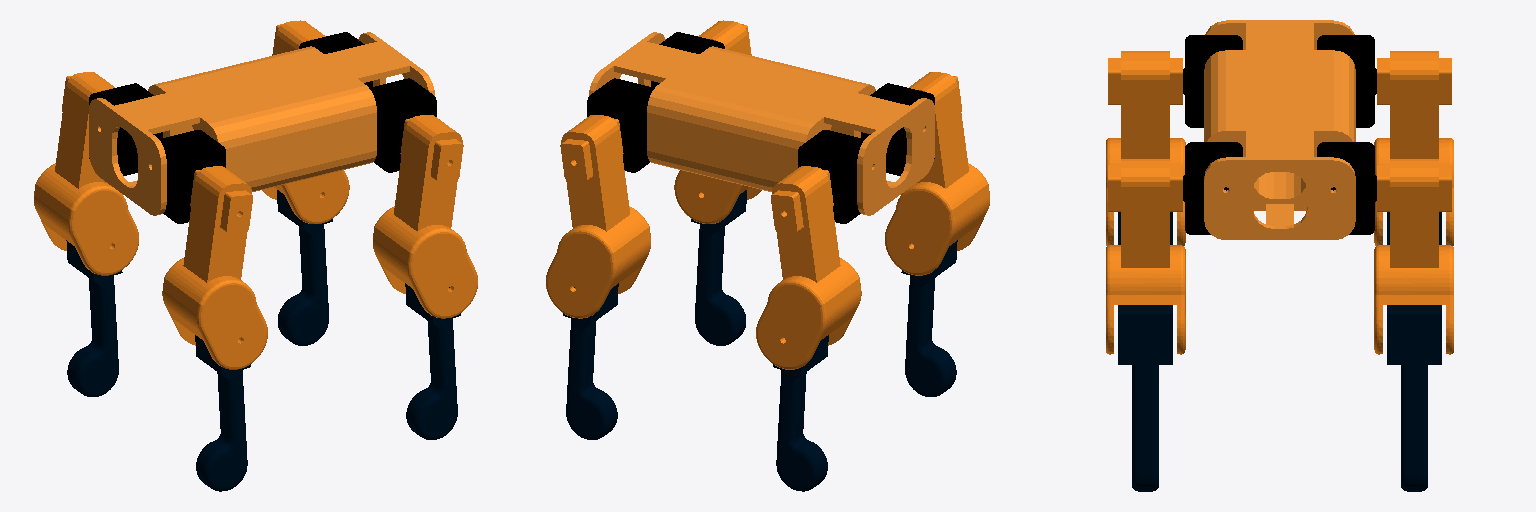
robot.urdf — dogai:
<?xml version="1.0" encoding="utf-8"?>
<!-- This URDF was automatically created by SolidWorks to URDF Exporter! Originally created by [author] ([email redacted]) 
     Commit Version: 1.6.0-1-g15f4949  Build Version: 1.6.7594.29634
     For more information, please see http://wiki.ros.org/sw_urdf_exporter -->
<robot
  name="dogai">
  <link
    name="body">
    <inertial>
      <origin
        xyz="-0.12 3.2055E-18 0.00045303"
        rpy="0 0 0" />
      <mass
        value="0.81191" />
      <inertia
        ixx="0.0012796"
        ixy="-1.8752E-19"
        ixz="1.8007E-19"
        iyy="0.0024911"
        iyz="-6.7374E-20"
        izz="0.0031155" />
    </inertial>
    <visual>
      <origin
        xyz="0 0 0"
        rpy="0 0 0" />
      <geometry>
        <mesh
          filename="package://dogai/meshes/body.STL" />
      </geometry>
      <material
        name="">
        <color
          rgba="1 0.61176 0.21961 1" />
      </material>
    </visual>
    <collision>
      <origin
        xyz="0 0 0"
        rpy="0 0 0" />
      <geometry>
        <mesh
          filename="package://dogai/meshes/body.STL" />
      </geometry>
    </collision>
  </link>
  <link
    name="shoulder_fr">
    <inertial>
      <origin
        xyz="0.0115975106554325 -0.00913432556897403 3.46944695195361E-18"
        rpy="0 0 0" />
      <mass
        value="0.106289004701676" />
      <inertia
        ixx="3.25774990855459E-05"
        ixy="-9.46709865303844E-08"
        ixz="2.54666498027331E-22"
        iyy="4.53186517428609E-05"
        iyz="2.46297179272485E-21"
        izz="4.32581209996743E-05" />
    </inertial>
    <visual>
      <origin
        xyz="0 0 0"
        rpy="0 0 0" />
      <geometry>
        <mesh
          filename="package://dogai/meshes/shoulder_fr.STL" />
      </geometry>
      <material
        name="">
        <color
          rgba="0 0 0 1" />
      </material>
    </visual>
    <collision>
      <origin
        xyz="0 0 0"
        rpy="0 0 0" />
      <geometry>
        <mesh
          filename="package://dogai/meshes/shoulder_fr.STL" />
      </geometry>
    </collision>
  </link>
  <joint
    name="shoulder_fr_j"
    type="revolute">
    <origin
      xyz="-0.0275 -0.039 0.008"
      rpy="0 1.5708 0" />
    <parent
      link="body" />
    <child
      link="shoulder_fr" />
    <axis
      xyz="0 0 1" />
    <limit
      lower="-0.75"
      upper="1"
      effort="1"
      velocity="4" />
  </joint>
  <link
    name="leg_fr">
    <inertial>
      <origin
        xyz="0.0487781480399099 -0.00604686128392776 -4.64900756780295E-11"
        rpy="0 0 0" />
      <mass
        value="0.193999611092193" />
      <inertia
        ixx="8.48586935457572E-05"
        ixy="2.19246058611957E-05"
        ixz="-5.96478438885935E-12"
        iyy="0.000321240412259336"
        iyz="-2.85920133701601E-11"
        izz="0.000299935255132482" />
    </inertial>
    <visual>
      <origin
        xyz="0 0 0"
        rpy="0 0 0" />
      <geometry>
        <mesh
          filename="package://dogai/meshes/leg_fr.STL" />
      </geometry>
      <material
        name="">
        <color
          rgba="1 0.576470588235294 0.152941176470588 1" />
      </material>
    </visual>
    <collision>
      <origin
        xyz="0 0 0"
        rpy="0 0 0" />
      <geometry>
        <mesh
          filename="package://dogai/meshes/leg_fr.STL" />
      </geometry>
    </collision>
  </link>
  <joint
    name="leg_fr_j"
    type="revolute">
    <origin
      xyz="0.0115 -0.0585 0"
      rpy="1.5708 0 0" />
    <parent
      link="shoulder_fr" />
    <child
      link="leg_fr" />
    <axis
      xyz="0 0 -1" />
    <limit
      lower="-1.5"
      upper="1.57"
      effort="1"
      velocity="4" />
  </joint>
  <link
    name="foreleg_fr">
    <inertial>
      <origin
        xyz="0.052106825436364 0.00242636941342475 -1.4779647575236E-08"
        rpy="0 0 0" />
      <mass
        value="0.0838297623786511" />
      <inertia
        ixx="1.2288603982173E-05"
        ixy="-2.54469730030703E-06"
        ixz="1.34161791073589E-11"
        iyy="0.000188049108154985"
        iyz="-9.88336405367172E-12"
        izz="0.000186982160883614" />
    </inertial>
    <visual>
      <origin
        xyz="0 0 0"
        rpy="0 0 0" />
      <geometry>
        <mesh
          filename="package://dogai/meshes/foreleg_fr.STL" />
      </geometry>
      <material
        name="">
        <color
          rgba="0 0.0901960784313725 0.164705882352941 1" />
      </material>
    </visual>
    <collision>
      <origin
        xyz="0 0 0"
        rpy="0 0 0" />
      <geometry>
        <mesh
          filename="package://dogai/meshes/foreleg_fr.STL" />
      </geometry>
    </collision>
  </link>
  <joint
    name="foreleg_fr_j"
    type="revolute">
    <origin
      xyz="0.10508 0 0"
      rpy="0 0 0" />
    <parent
      link="leg_fr" />
    <child
      link="foreleg_fr" />
    <axis
      xyz="0 0 -1" />
    <limit
      lower="-2"
      upper="0.5"
      effort="1"
      velocity="4" />
  </joint>
  <link
    name="shoulder_fl">
    <inertial>
      <origin
        xyz="0.0115975106554325 0.00913432556897403 0"
        rpy="0 0 0" />
      <mass
        value="0.106289004701676" />
      <inertia
        ixx="3.25774990855459E-05"
        ixy="9.46709865303842E-08"
        ixz="6.96249139264393E-22"
        iyy="4.5318651742861E-05"
        iyz="1.70887851159399E-21"
        izz="4.32581209996743E-05" />
    </inertial>
    <visual>
      <origin
        xyz="0 0 0"
        rpy="0 0 0" />
      <geometry>
        <mesh
          filename="package://dogai/meshes/shoulder_fl.STL" />
      </geometry>
      <material
        name="">
        <color
          rgba="0 0 0 1" />
      </material>
    </visual>
    <collision>
      <origin
        xyz="0 0 0"
        rpy="0 0 0" />
      <geometry>
        <mesh
          filename="package://dogai/meshes/shoulder_fl.STL" />
      </geometry>
    </collision>
  </link>
  <joint
    name="shoulder_fl_j"
    type="revolute">
    <origin
      xyz="-0.0275 0.039 0.008"
      rpy="0 1.5708 0" />
    <parent
      link="body" />
    <child
      link="shoulder_fl" />
    <axis
      xyz="0 0 -1" />
    <limit
      lower="-0.75"
      upper="1"
      effort="1"
      velocity="4" />
  </joint>
  <link
    name="leg_fl">
    <inertial>
      <origin
        xyz="0.0487781480399099 -0.00604686128392776 -4.64900756780295E-11"
        rpy="0 0 0" />
      <mass
        value="0.193999611092193" />
      <inertia
        ixx="8.48586935457572E-05"
        ixy="2.19246058611957E-05"
        ixz="-5.96478440380382E-12"
        iyy="0.000321240412259336"
        iyz="-2.8592013365393E-11"
        izz="0.000299935255132482" />
    </inertial>
    <visual>
      <origin
        xyz="0 0 0"
        rpy="0 0 0" />
      <geometry>
        <mesh
          filename="package://dogai/meshes/leg_fl.STL" />
      </geometry>
      <material
        name="">
        <color
          rgba="1 0.576470588235294 0.152941176470588 1" />
      </material>
    </visual>
    <collision>
      <origin
        xyz="0 0 0"
        rpy="0 0 0" />
      <geometry>
        <mesh
          filename="package://dogai/meshes/leg_fl.STL" />
      </geometry>
    </collision>
  </link>
  <joint
    name="leg_fl_j"
    type="revolute">
    <origin
      xyz="0.0115 0.0585 0"
      rpy="1.5708 0 0" />
    <parent
      link="shoulder_fl" />
    <child
      link="leg_fl" />
    <axis
      xyz="0 0 -1" />
    <limit
      lower="-1.5"
      upper="1.57"
      effort="1"
      velocity="4" />
  </joint>
  <link
    name="foreleg_fl">
    <inertial>
      <origin
        xyz="0.052106825436364 0.00242636941342481 -1.47796475891138E-08"
        rpy="0 0 0" />
      <mass
        value="0.0838297623786512" />
      <inertia
        ixx="1.2288603982173E-05"
        ixy="-2.54469730030704E-06"
        ixz="1.34161791055163E-11"
        iyy="0.000188049108154985"
        iyz="-9.88336405478012E-12"
        izz="0.000186982160883614" />
    </inertial>
    <visual>
      <origin
        xyz="0 0 0"
        rpy="0 0 0" />
      <geometry>
        <mesh
          filename="package://dogai/meshes/foreleg_fl.STL" />
      </geometry>
      <material
        name="">
        <color
          rgba="0 0.0901960784313725 0.164705882352941 1" />
      </material>
    </visual>
    <collision>
      <origin
        xyz="0 0 0"
        rpy="0 0 0" />
      <geometry>
        <mesh
          filename="package://dogai/meshes/foreleg_fl.STL" />
      </geometry>
    </collision>
  </link>
  <joint
    name="foreleg_fl_j"
    type="revolute">
    <origin
      xyz="0.10508 0 0"
      rpy="0 0 0" />
    <parent
      link="leg_fl" />
    <child
      link="foreleg_fl" />
    <axis
      xyz="0 0 -1" />
    <limit
      lower="-2"
      upper="0.5"
      effort="1"
      velocity="4" />
  </joint>
  <link
    name="shoulder_br">
    <inertial>
      <origin
        xyz="0.0115975106554326 -0.00913432556897405 0"
        rpy="0 0 0" />
      <mass
        value="0.106289004701676" />
      <inertia
        ixx="3.25774990855459E-05"
        ixy="-9.46709865303851E-08"
        ixz="1.02508255400528E-21"
        iyy="4.5318651742861E-05"
        iyz="8.17447970596714E-22"
        izz="4.32581209996744E-05" />
    </inertial>
    <visual>
      <origin
        xyz="0 0 0"
        rpy="0 0 0" />
      <geometry>
        <mesh
          filename="package://dogai/meshes/shoulder_br.STL" />
      </geometry>
      <material
        name="">
        <color
          rgba="0 0 0 1" />
      </material>
    </visual>
    <collision>
      <origin
        xyz="0 0 0"
        rpy="0 0 0" />
      <geometry>
        <mesh
          filename="package://dogai/meshes/shoulder_br.STL" />
      </geometry>
    </collision>
  </link>
  <joint
    name="shoulder_br_j"
    type="revolute">
    <origin
      xyz="-0.2115 -0.039 0.008"
      rpy="0 1.5708 0" />
    <parent
      link="body" />
    <child
      link="shoulder_br" />
    <axis
      xyz="0 0 1" />
    <limit
      lower="-0.75"
      upper="1"
      effort="1"
      velocity="4" />
  </joint>
  <link
    name="leg_br">
    <inertial>
      <origin
        xyz="0.0487781480399099 -0.00604686128392776 -4.64900618002417E-11"
        rpy="0 0 0" />
      <mass
        value="0.193999611092193" />
      <inertia
        ixx="8.48586935457571E-05"
        ixy="2.19246058611956E-05"
        ixz="-5.96478434356076E-12"
        iyy="0.000321240412259335"
        iyz="-2.85920133693728E-11"
        izz="0.000299935255132482" />
    </inertial>
    <visual>
      <origin
        xyz="0 0 0"
        rpy="0 0 0" />
      <geometry>
        <mesh
          filename="package://dogai/meshes/leg_br.STL" />
      </geometry>
      <material
        name="">
        <color
          rgba="1 0.576470588235294 0.152941176470588 1" />
      </material>
    </visual>
    <collision>
      <origin
        xyz="0 0 0"
        rpy="0 0 0" />
      <geometry>
        <mesh
          filename="package://dogai/meshes/leg_br.STL" />
      </geometry>
    </collision>
  </link>
  <joint
    name="leg_br_j"
    type="revolute">
    <origin
      xyz="0.0115 -0.0585 0"
      rpy="1.5708 0 0" />
    <parent
      link="shoulder_br" />
    <child
      link="leg_br" />
    <axis
      xyz="0 0 -1" />
    <limit
      lower="-1.5"
      upper="1.57"
      effort="1"
      velocity="4" />
  </joint>
  <link
    name="foreleg_br">
    <inertial>
      <origin
        xyz="0.052106825436364 0.00242636941342478 -1.47796475613582E-08"
        rpy="0 0 0" />
      <mass
        value="0.0838297623786512" />
      <inertia
        ixx="1.2288603982173E-05"
        ixy="-2.54469730030703E-06"
        ixz="1.34161790950947E-11"
        iyy="0.000188049108154985"
        iyz="-9.88336405359797E-12"
        izz="0.000186982160883614" />
    </inertial>
    <visual>
      <origin
        xyz="0 0 0"
        rpy="0 0 0" />
      <geometry>
        <mesh
          filename="package://dogai/meshes/foreleg_br.STL" />
      </geometry>
      <material
        name="">
        <color
          rgba="0 0.0901960784313725 0.164705882352941 1" />
      </material>
    </visual>
    <collision>
      <origin
        xyz="0 0 0"
        rpy="0 0 0" />
      <geometry>
        <mesh
          filename="package://dogai/meshes/foreleg_br.STL" />
      </geometry>
    </collision>
  </link>
  <joint
    name="foreleg_br_j"
    type="revolute">
    <origin
      xyz="0.10508 0 0"
      rpy="0 0 0" />
    <parent
      link="leg_br" />
    <child
      link="foreleg_br" />
    <axis
      xyz="0 0 -1" />
    <limit
      lower="-2"
      upper="0.5"
      effort="1"
      velocity="4" />
  </joint>
  <link
    name="shoulder_bl">
    <inertial>
      <origin
        xyz="0.0115975106554325 0.00913432556897404 -2.77555756156289E-17"
        rpy="0 0 0" />
      <mass
        value="0.106289004701676" />
      <inertia
        ixx="3.25774990855458E-05"
        ixy="9.4670986530381E-08"
        ixz="1.24892754754621E-21"
        iyy="4.53186517428609E-05"
        iyz="-3.24133778204539E-22"
        izz="4.32581209996743E-05" />
    </inertial>
    <visual>
      <origin
        xyz="0 0 0"
        rpy="0 0 0" />
      <geometry>
        <mesh
          filename="package://dogai/meshes/shoulder_bl.STL" />
      </geometry>
      <material
        name="">
        <color
          rgba="0 0 0 1" />
      </material>
    </visual>
    <collision>
      <origin
        xyz="0 0 0"
        rpy="0 0 0" />
      <geometry>
        <mesh
          filename="package://dogai/meshes/shoulder_bl.STL" />
      </geometry>
    </collision>
  </link>
  <joint
    name="shoulder_bl_j"
    type="revolute">
    <origin
      xyz="-0.2115 0.039 0.008"
      rpy="0 1.5708 0" />
    <parent
      link="body" />
    <child
      link="shoulder_bl" />
    <axis
      xyz="0 0 -1" />
    <limit
      lower="-0.75"
      upper="1"
      effort="1"
      velocity="4" />
  </joint>
  <link
    name="leg_bl">
    <inertial>
      <origin
        xyz="0.0487781480399099 -0.00604686128392773 -4.64900618002417E-11"
        rpy="0 0 0" />
      <mass
        value="0.193999611092193" />
      <inertia
        ixx="8.48586935457571E-05"
        ixy="2.19246058611956E-05"
        ixz="-5.96478435596948E-12"
        iyy="0.000321240412259335"
        iyz="-2.85920133800422E-11"
        izz="0.000299935255132482" />
    </inertial>
    <visual>
      <origin
        xyz="0 0 0"
        rpy="0 0 0" />
      <geometry>
        <mesh
          filename="package://dogai/meshes/leg_bl.STL" />
      </geometry>
      <material
        name="">
        <color
          rgba="1 0.576470588235294 0.152941176470588 1" />
      </material>
    </visual>
    <collision>
      <origin
        xyz="0 0 0"
        rpy="0 0 0" />
      <geometry>
        <mesh
          filename="package://dogai/meshes/leg_bl.STL" />
      </geometry>
    </collision>
  </link>
  <joint
    name="leg_bl_j"
    type="revolute">
    <origin
      xyz="0.0115 0.0585000000000001 0"
      rpy="1.5707963267949 0 0" />
    <parent
      link="shoulder_bl" />
    <child
      link="leg_bl" />
    <axis
      xyz="0 0 -1" />
    <limit
      lower="-1.5"
      upper="1.57"
      effort="1"
      velocity="4" />
  </joint>
  <link
    name="foreleg_bl">
    <inertial>
      <origin
        xyz="0.0521068254363641 0.00242636941342483 -1.47796476029916E-08"
        rpy="0 0 0" />
      <mass
        value="0.0838297623786512" />
      <inertia
        ixx="1.2288603982173E-05"
        ixy="-2.54469730030704E-06"
        ixz="1.34161790993919E-11"
        iyy="0.000188049108154985"
        iyz="-9.88336405395384E-12"
        izz="0.000186982160883614" />
    </inertial>
    <visual>
      <origin
        xyz="0 0 0"
        rpy="0 0 0" />
      <geometry>
        <mesh
          filename="package://dogai/meshes/foreleg_bl.STL" />
      </geometry>
      <material
        name="">
        <color
          rgba="0 0.0901960784313725 0.164705882352941 1" />
      </material>
    </visual>
    <collision>
      <origin
        xyz="0 0 0"
        rpy="0 0 0" />
      <geometry>
        <mesh
          filename="package://dogai/meshes/foreleg_bl.STL" />
      </geometry>
    </collision>
  </link>
  <joint
    name="foreleg_bl_j"
    type="revolute">
    <origin
      xyz="0.105076162853427 0 0"
      rpy="0 0 0" />
    <parent
      link="leg_bl" />
    <child
      link="foreleg_bl" />
    <axis
      xyz="0 0 -1" />
    <limit
      lower="-2"
      upper="0.5"
      effort="1"
      velocity="4" />
  </joint>
</robot>

--- What the picture shows (computed from the rendered views, not written in the file) ---
3 views of the same robot in one strip: view 1: azimuth 30°, elevation 25°; view 2: azimuth 150°, elevation 25°; view 3: azimuth 270°, elevation 25° (orthographic).
Model dogai with 13 links and 12 joints (12 revolute), rooted at body, posed all joints at 0.
Links seen in each view (by area): view 1: body, leg_fr, leg_br, leg_bl, foreleg_br, foreleg_fl, foreleg_bl, foreleg_fr, leg_fl, shoulder_fr, shoulder_br, shoulder_bl (+1 smaller); view 2: body, leg_fl, leg_bl, leg_br, foreleg_bl, foreleg_fr, foreleg_br, foreleg_fl, leg_fr, shoulder_fl, shoulder_bl, shoulder_br (+1 smaller); view 3: body, leg_fr, leg_fl, leg_br, leg_bl, foreleg_fr, foreleg_fl, shoulder_fr, shoulder_fl, shoulder_br, shoulder_bl.
Boxes of the visible links, x1=… form: body: x1=89, y1=32, x2=434, y2=215; leg_fr: x1=373, y1=115, x2=477, y2=318; leg_br: x1=162, y1=166, x2=267, y2=369; leg_bl: x1=34, y1=72, x2=138, y2=275; foreleg_br: x1=195, y1=335, x2=250, y2=491; foreleg_fl: x1=277, y1=190, x2=332, y2=345; foreleg_bl: x1=66, y1=240, x2=122, y2=396; foreleg_fr: x1=405, y1=283, x2=460, y2=439; leg_fl: x1=262, y1=20, x2=349, y2=223; shoulder_fr: x1=369, y1=78, x2=436, y2=172; shoulder_br: x1=159, y1=130, x2=225, y2=223; shoulder_bl: x1=89, y1=83, x2=162, y2=175; body: x1=589, y1=32, x2=934, y2=215; leg_fl: x1=546, y1=115, x2=650, y2=318; leg_bl: x1=756, y1=166, x2=861, y2=369; leg_br: x1=885, y1=72, x2=989, y2=275; foreleg_bl: x1=773, y1=335, x2=828, y2=491; foreleg_fr: x1=691, y1=190, x2=746, y2=345; foreleg_br: x1=901, y1=240, x2=957, y2=396; foreleg_fl: x1=563, y1=283, x2=618, y2=439; leg_fr: x1=674, y1=20, x2=761, y2=223; shoulder_fl: x1=587, y1=78, x2=654, y2=172; shoulder_bl: x1=798, y1=130, x2=864, y2=223; shoulder_br: x1=861, y1=83, x2=934, y2=175; body: x1=1204, y1=20, x2=1355, y2=239; leg_fr: x1=1106, y1=159, x2=1185, y2=354; leg_fl: x1=1374, y1=159, x2=1453, y2=354; leg_br: x1=1106, y1=51, x2=1185, y2=245; leg_bl: x1=1374, y1=51, x2=1453, y2=245; foreleg_fr: x1=1118, y1=305, x2=1172, y2=491; foreleg_fl: x1=1387, y1=305, x2=1441, y2=491; shoulder_fr: x1=1183, y1=142, x2=1242, y2=234; shoulder_fl: x1=1317, y1=142, x2=1376, y2=234; shoulder_br: x1=1183, y1=35, x2=1242, y2=127; shoulder_bl: x1=1317, y1=35, x2=1376, y2=127.
Bounding box of the posed robot: 0.248 × 0.253 × 0.2758 m (x, y, z).
13 mesh visuals loaded from 13 distinct referenced files (13 binary STL).